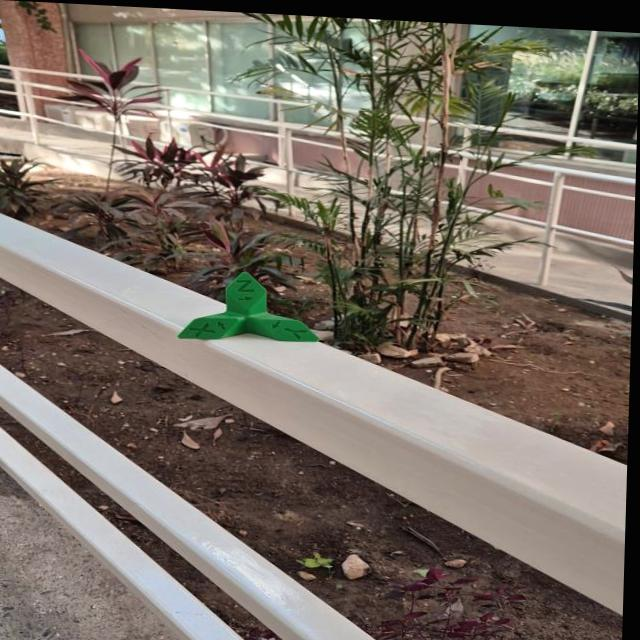eje: (175, 266, 324, 348)
